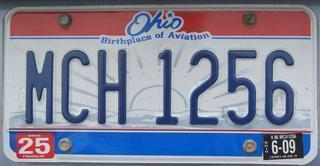placa de veiculo: (3, 7, 315, 161)
